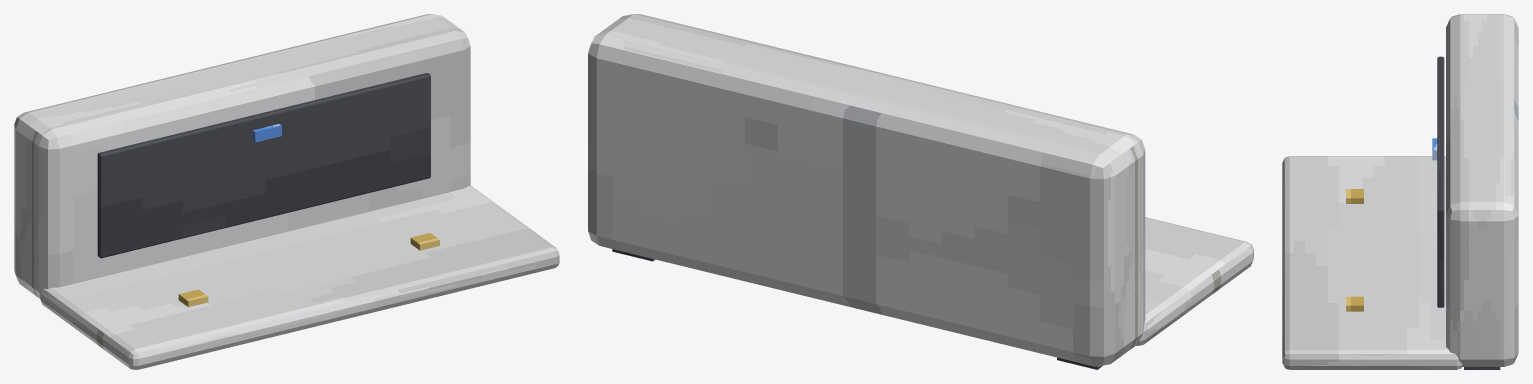
The model's file is vacuum_dock.glb.
3 views of the same model, side by side, from view 1: azimuth 30°, elevation 25°; view 2: azimuth 150°, elevation 25°; view 3: azimuth 270°, elevation 25° (orthographic). The views are drawn at different scales.
Visible parts, largest first — view 1: Cube; view 2: Cube; view 3: Cube.
Boxes of the visible parts, box(x1,y1,x2,y2) form: Cube: box(14, 14, 559, 369); Cube: box(588, 14, 1253, 369); Cube: box(1282, 14, 1518, 369).
Bounding box in the file's own units: 0.26 × 0.103 × 0.13.
4 materials, 4 textured.
